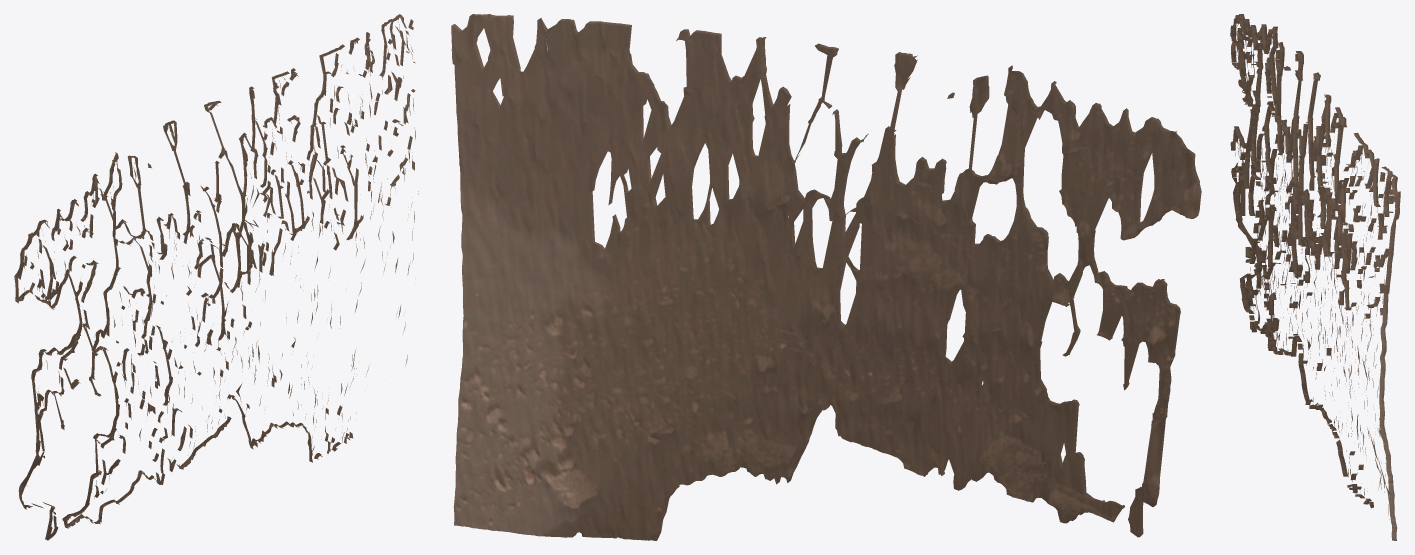
3 renders of one model, left to right at view 1: azimuth 30°, elevation 25°; view 2: azimuth 150°, elevation 25°; view 3: azimuth 270°, elevation 25°, orthographic. The views are drawn at different scales.
Bounding box in the file's own units: 1.04 × 0.8141 × 0.3516.
1 material, 1 textured.
